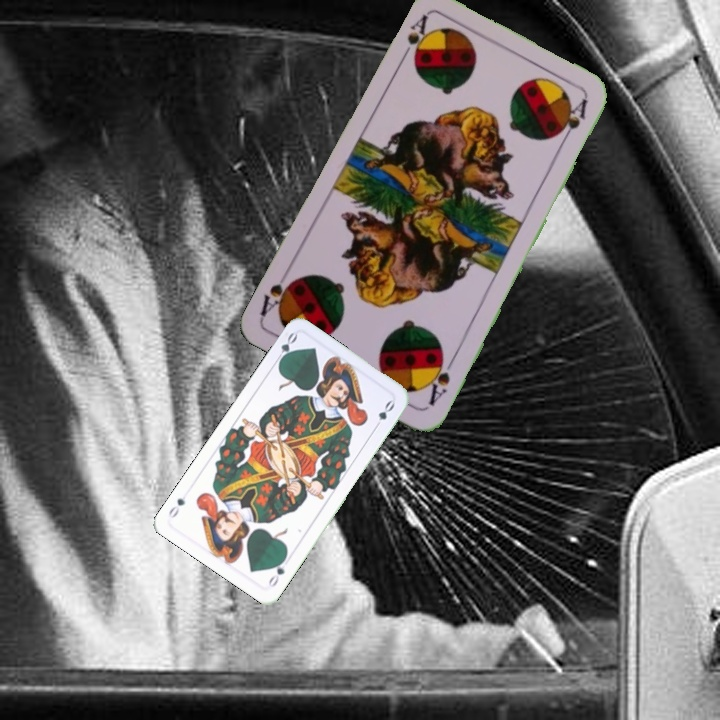GO: (271, 328, 300, 367), (264, 552, 289, 590)
SA: (421, 350, 457, 408), (395, 11, 432, 66)
